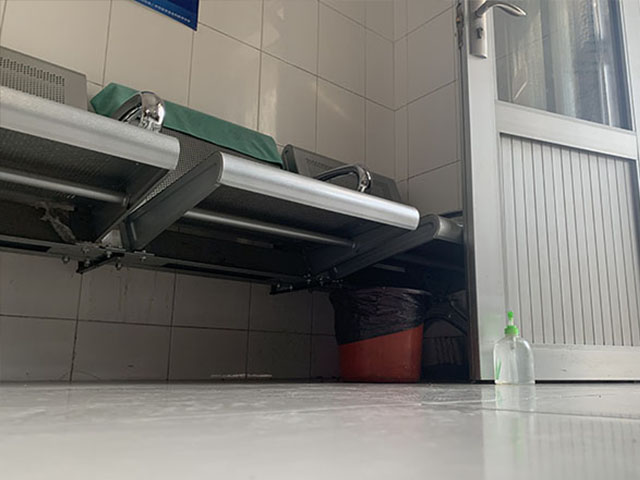trashcan: (327, 283, 433, 381)
